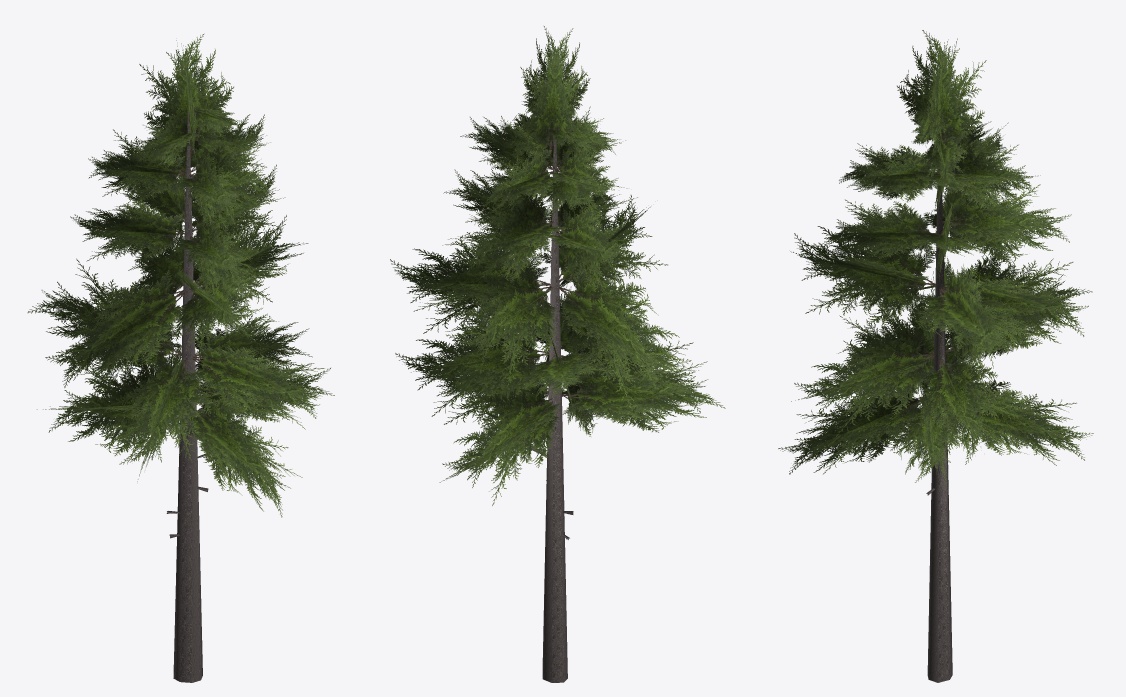
The model's file is cedarTree.dae.
The picture shows the model from 3 angles, left to right: view 1: azimuth 30°, elevation 25°; view 2: azimuth 150°, elevation 25°; view 3: azimuth 270°, elevation 25°; orthographic projection.
Visible parts, largest first — view 1: treemesh; view 2: treemesh; view 3: treemesh.
Boxes of the visible parts, x1=… form: treemesh: x1=27, y1=33, x2=334, y2=682; treemesh: x1=390, y1=26, x2=725, y2=682; treemesh: x1=778, y1=30, x2=1093, y2=682.
Bounding box in the file's own units: 1.41 × 2.78 × 1.34.
Materials: 1 (1 with a texture image).
